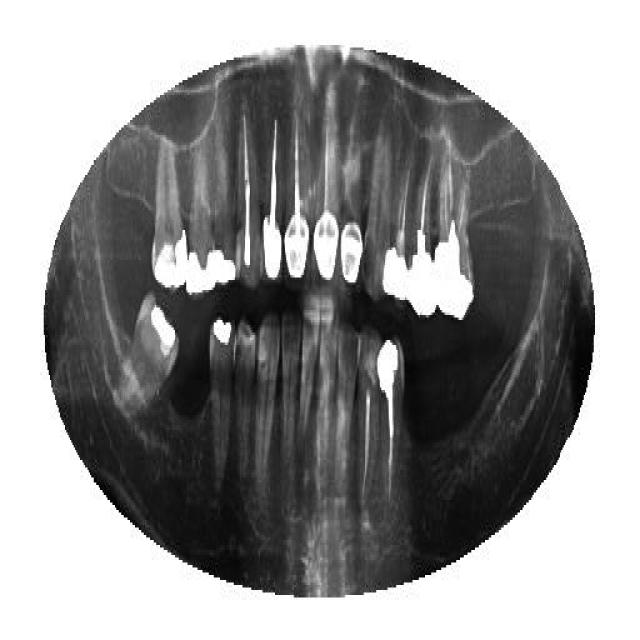Fillings: (114, 292, 180, 420), (150, 135, 188, 287), (186, 127, 214, 295), (209, 318, 236, 488), (213, 110, 235, 282), (340, 123, 362, 285)
Impacted Tooth: (114, 292, 180, 418)
Implant: (435, 145, 473, 323), (312, 105, 340, 283), (235, 97, 261, 285), (408, 150, 437, 318), (376, 338, 406, 498), (382, 152, 410, 302), (284, 112, 308, 280), (262, 108, 282, 280)
